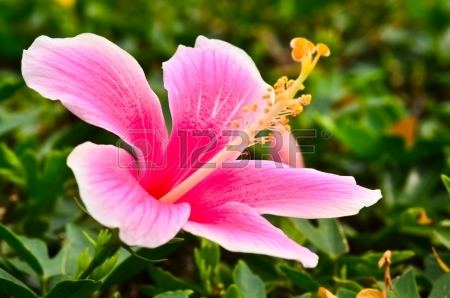Hibiscus: (20, 14, 408, 283)
